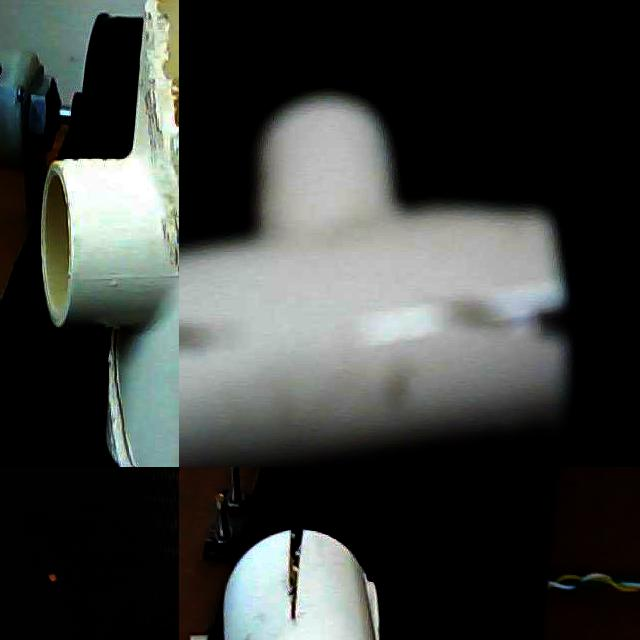Defective: (442, 274, 580, 356), (149, 11, 179, 330), (91, 321, 147, 467), (276, 529, 330, 640), (107, 332, 134, 467), (356, 566, 384, 640), (163, 14, 179, 130), (0, 581, 30, 625)
T Joint: (179, 88, 577, 467)
